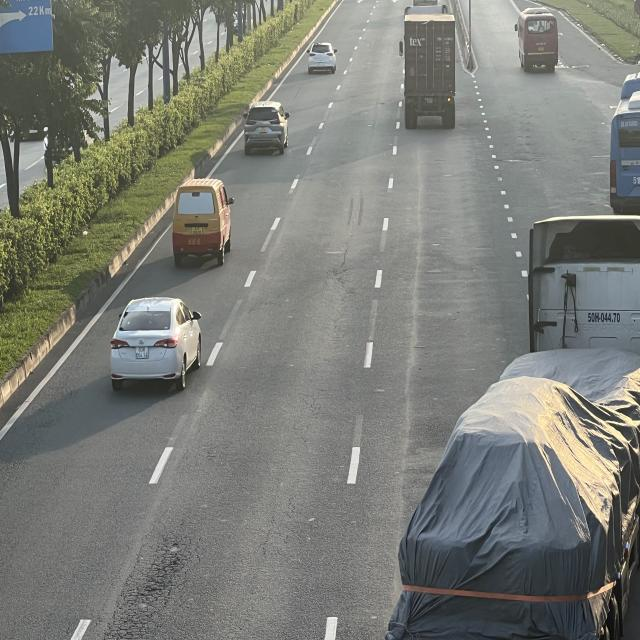car: (109, 298, 202, 394), (244, 102, 291, 156), (308, 44, 338, 76)
coach: (519, 5, 562, 70)
container: (394, 203, 640, 640), (404, 9, 460, 128)
van: (173, 178, 236, 264)
